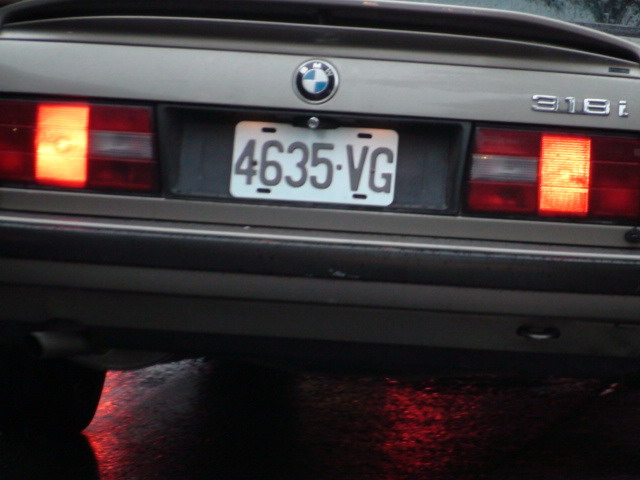plate: (230, 117, 404, 214)
